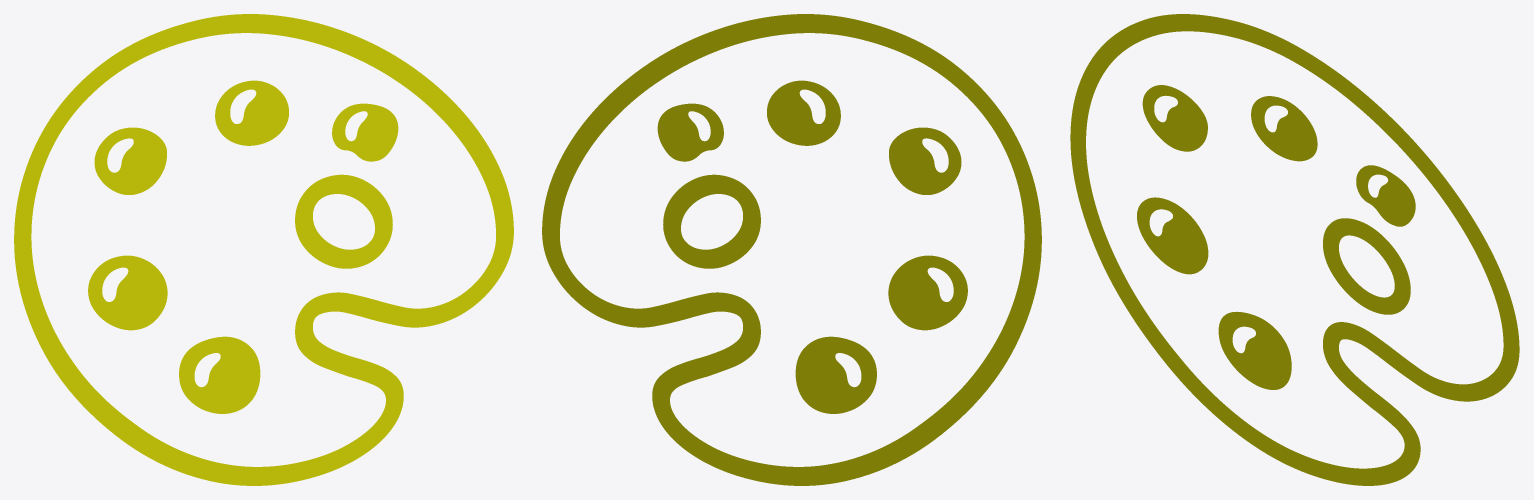
3 renders of one model, left to right at view 1: azimuth 30°, elevation 25°; view 2: azimuth 150°, elevation 25°; view 3: azimuth 330°, elevation 25°, orthographic. The views are drawn at different scales.
Parts seen in each view (by area): view 1: Text.959; view 2: Text.959; view 3: Text.959.
Part boxes in pixels (x1,y1,x2,y2): Text.959: (14, 14, 513, 485); Text.959: (542, 14, 1041, 485); Text.959: (1070, 14, 1519, 485).
Size of the model in its own units: 1.09 by 1.02 by 3.6e-06.
